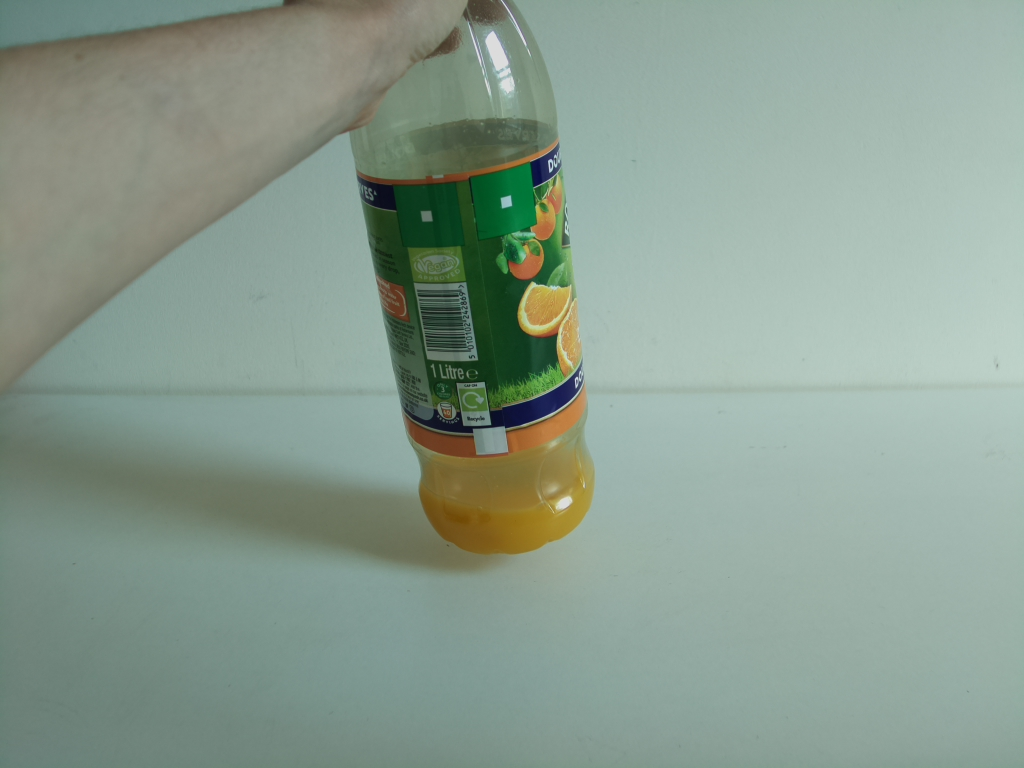juice: (356, 1, 601, 559)
